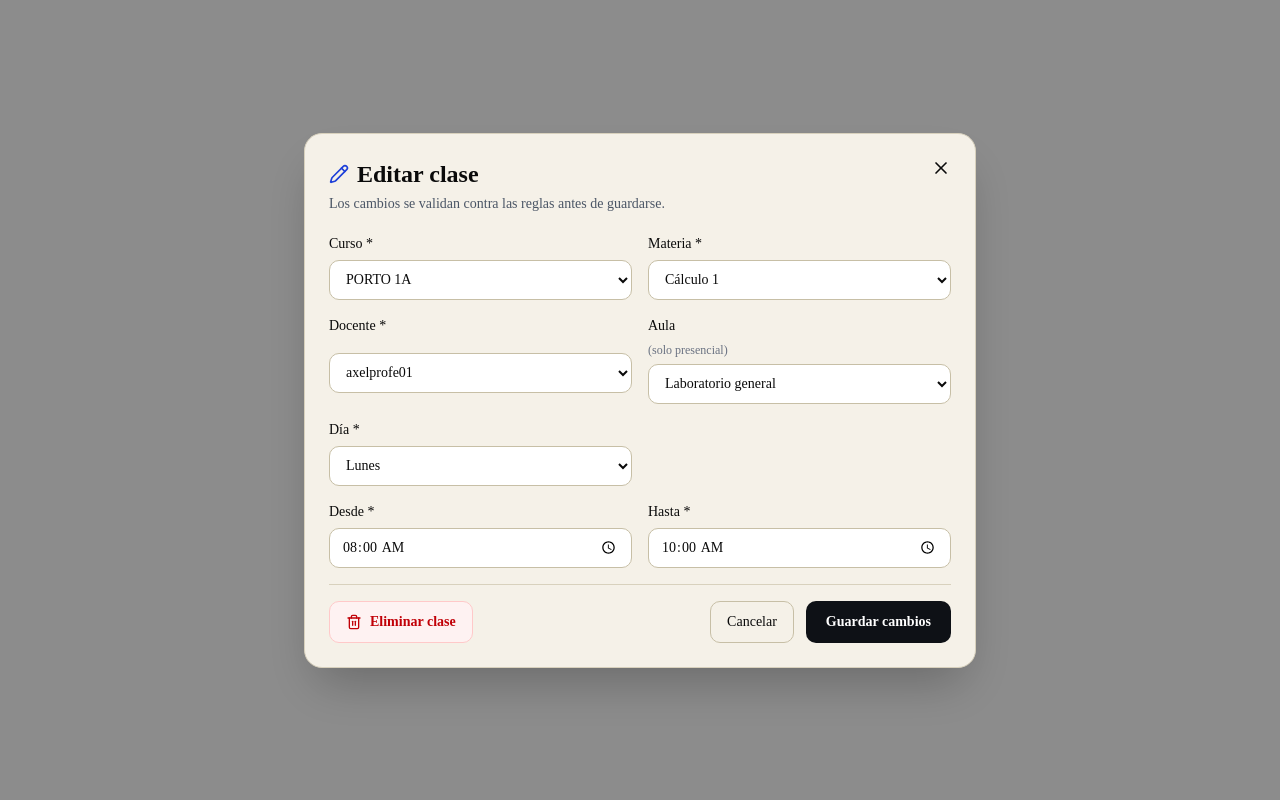
Scenario: EditarSesionDialog › al cambiar de curso actualiza filtros y limpia valores inválidos
Step 1. Select "MANTA 1A" in the dropdown labelled "Curso *" → (480,280), box [329,260,632,300]
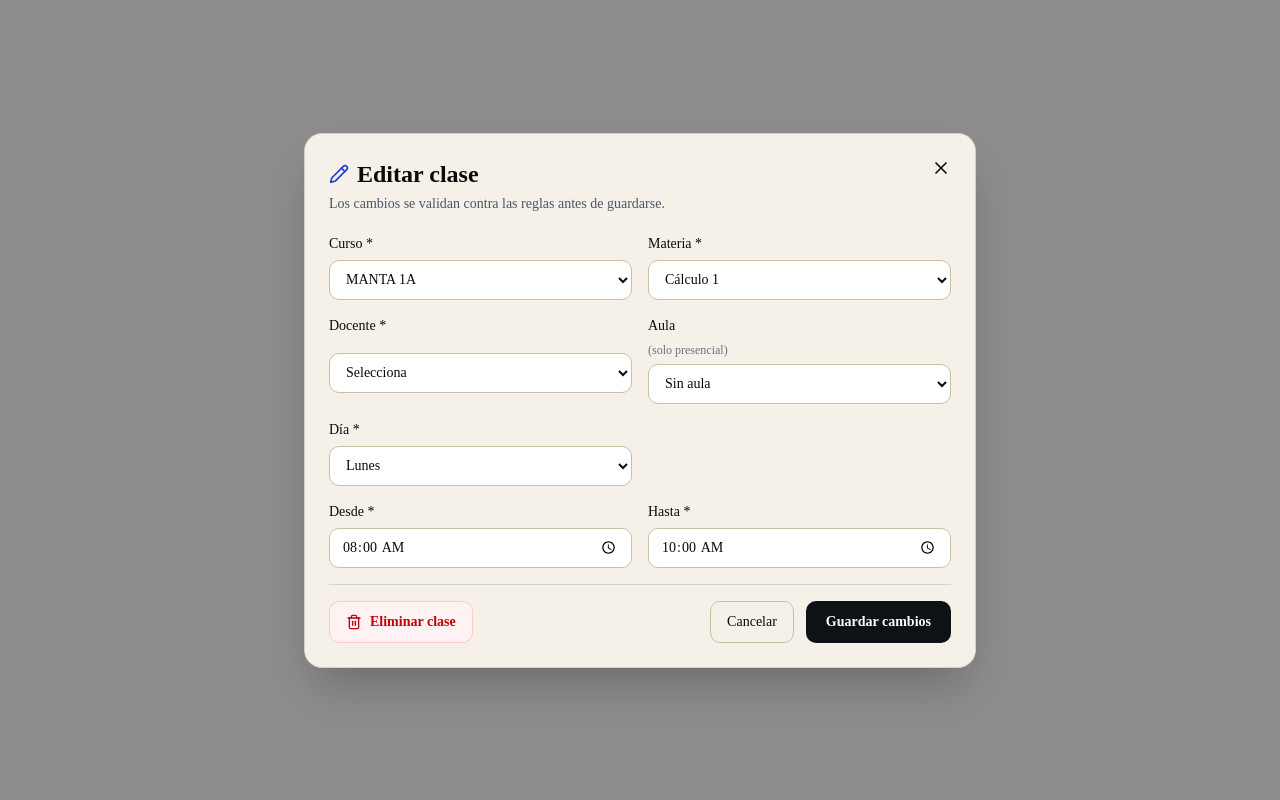
Now the dropdown labelled "Docente *" shows "Selecciona", box [329,352,632,392]
Now the dropdown labelled "Aula (solo presencial)" shows "Sin aula", box [648,364,951,404]
